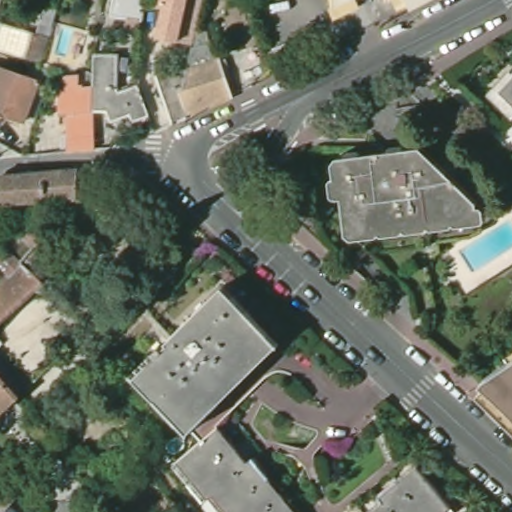pool: (456, 214, 512, 274), (50, 24, 80, 59)
